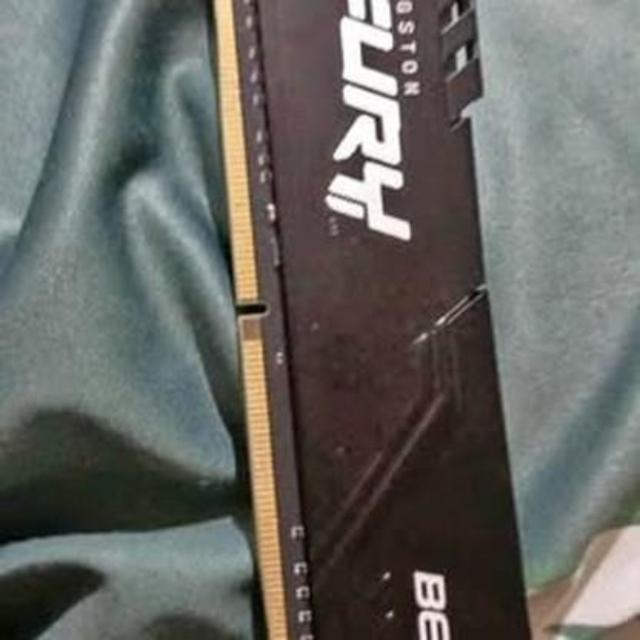RAM: (207, 0, 536, 640)
